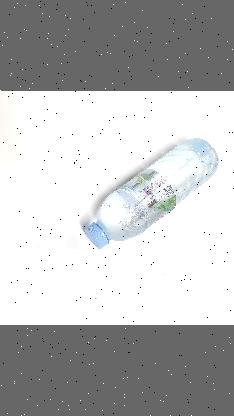Plastic Bottle: (81, 136, 220, 250)
